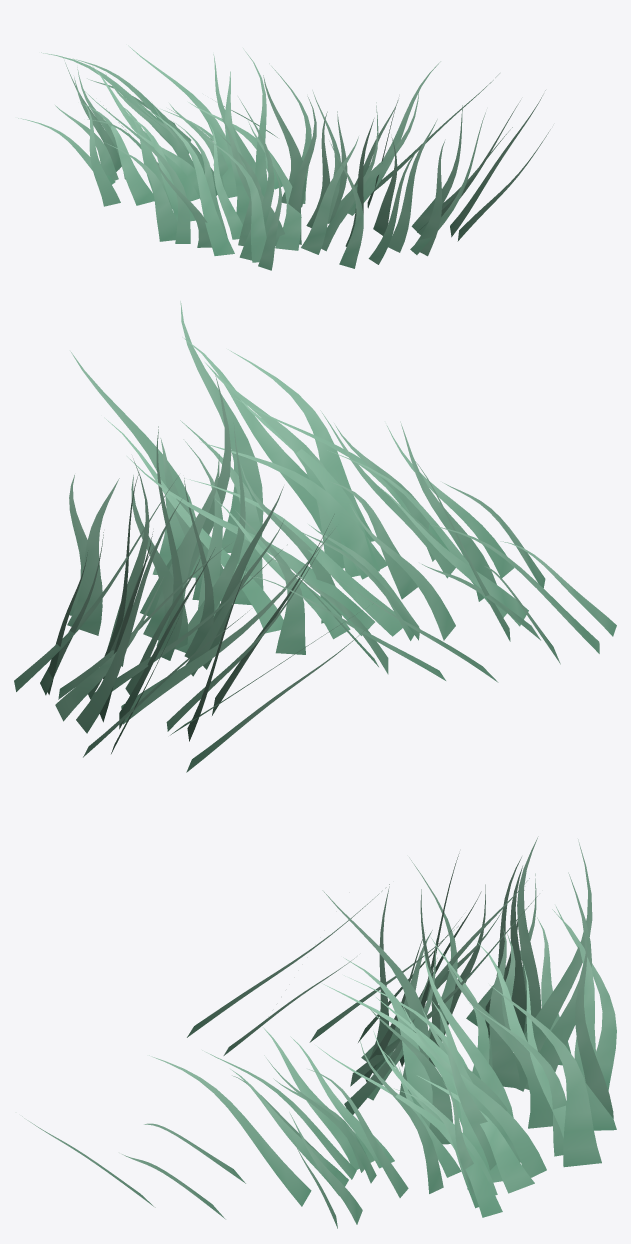
The model's file is mesh-plant-013-rust-tuft_LOD0.glb.
The picture shows the model from 3 angles, top to bottom: view 1: azimuth 30°, elevation 25°; view 2: azimuth 150°, elevation 25°; view 3: azimuth 270°, elevation 25°; orthographic projection. The views are drawn at different scales.
Parts seen in each view (by area): view 1: geometry_0; view 2: geometry_0; view 3: geometry_0.
Part boxes in pixels (<box>): geometry_0: <box>18,45,550,270</box>; geometry_0: <box>14,301,616,772</box>; geometry_0: <box>22,836,616,1228</box>.
Size of the model in its own units: 1.45 by 0.3946 by 1.18.
